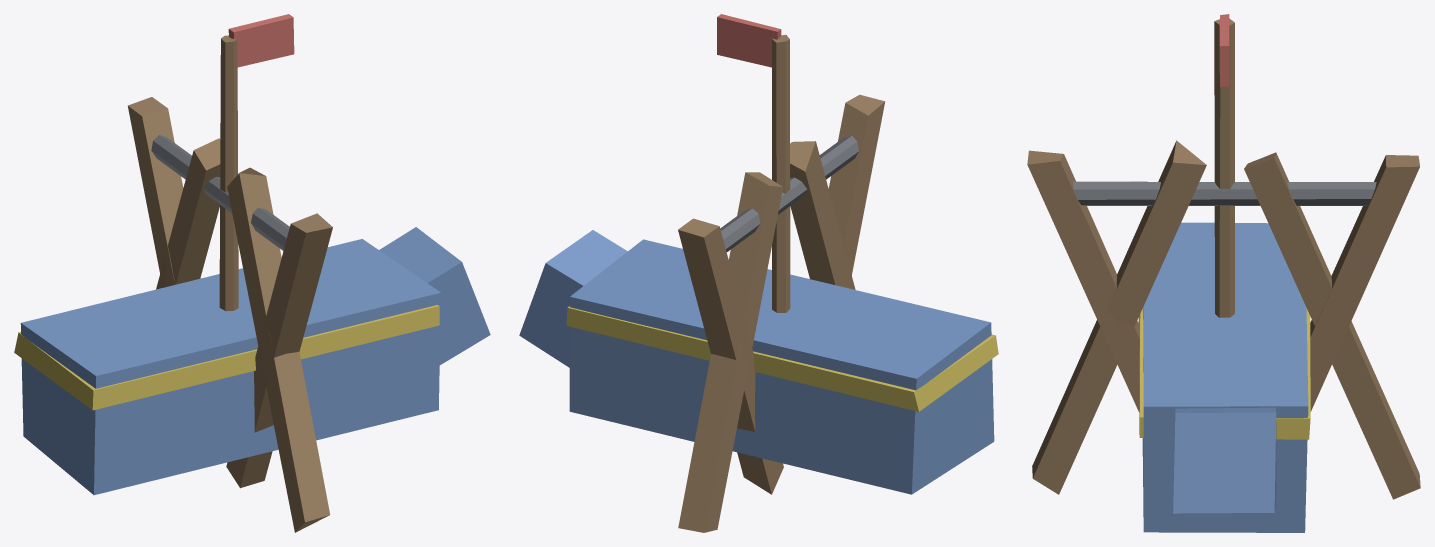
File: swingingship.fbx
3 views of the same model, side by side, from view 1: azimuth 30°, elevation 25°; view 2: azimuth 150°, elevation 25°; view 3: azimuth 270°, elevation 25° (orthographic). The views are drawn at different scales.
Visible parts, largest first — view 1: SwingingShip; view 2: SwingingShip; view 3: SwingingShip.
Boxes of the visible parts, x1,y1,x2,y2 form: SwingingShip: [14, 14, 490, 532]; SwingingShip: [519, 14, 998, 532]; SwingingShip: [1027, 14, 1420, 532].
Size of the model in its own units: 4.11 by 4.2 by 3.11.
